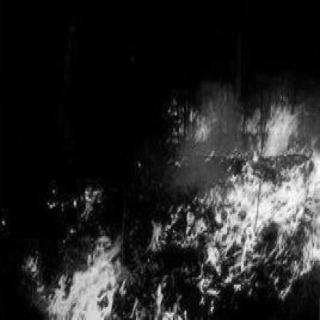Fire: (13, 198, 161, 316)
